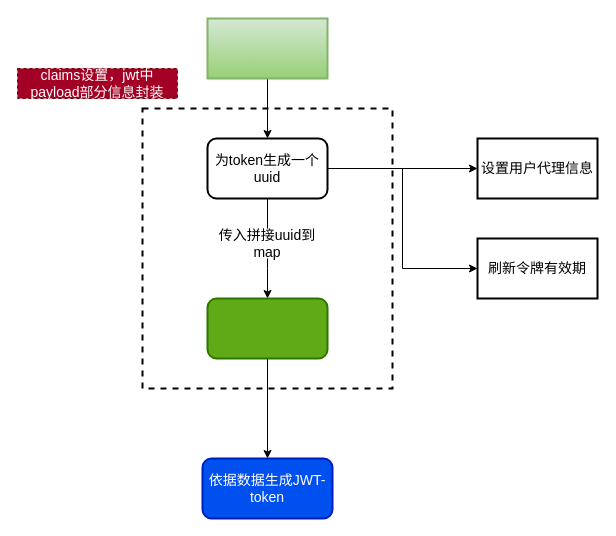
This 616x536 diagram has some shape labels left out. Here are the shapes that lost their labels. From the top down, the centre of each, then its label:
At (x=267, y=48): "生成token".
At (x=267, y=328): "在claims map中设置一些非敏感信息".
